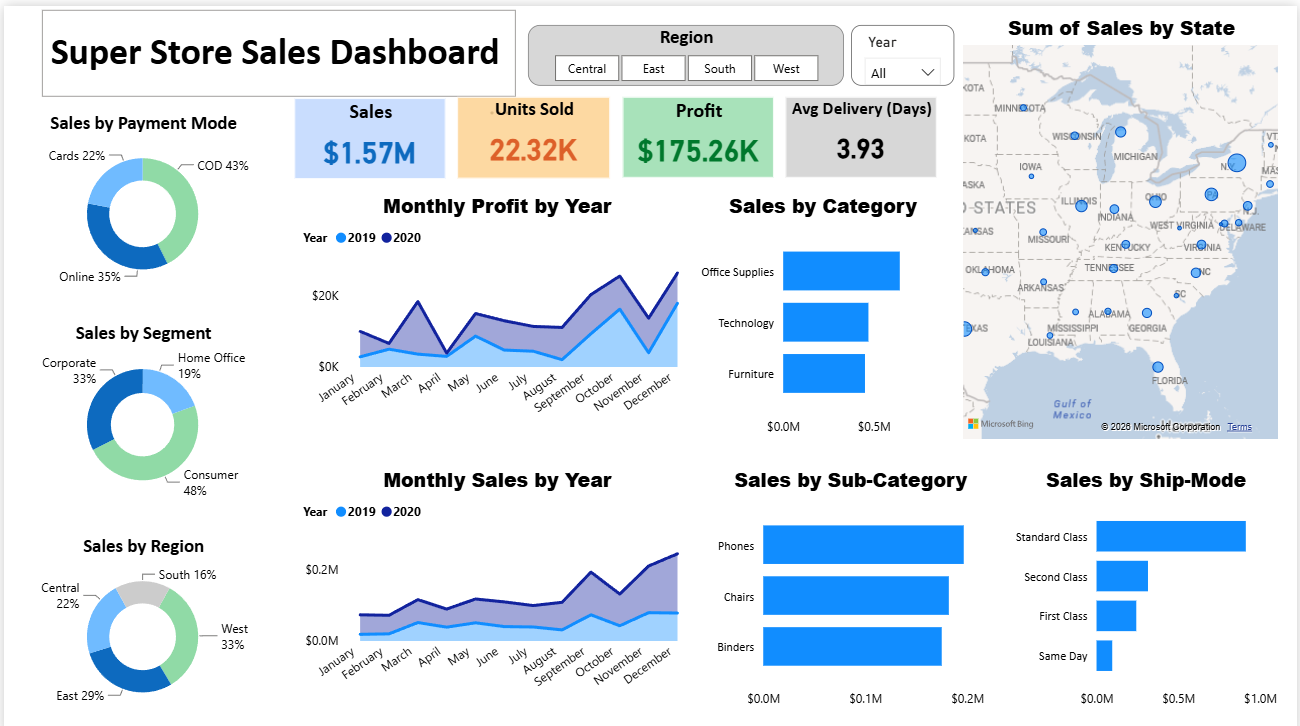

This screenshot's page, from the dashboard's own definition file:
{"tool":"powerbi","page":{"name":"Page 1","canvas":[1280,720],"ordinal":0},"visuals":[{"type":"clusteredBarChart","title":" Sales by Sub-Category","fields":{"Category":["SuperStore_Sales_Dataset.Sub-Category"],"Y":["Sum(SuperStore_Sales_Dataset.Sales)"]},"box":[695,451.2,285,257.5],"z":0},{"type":"clusteredBarChart","title":" Sales by Ship-Mode","fields":{"Category":["SuperStore_Sales_Dataset.Ship Mode"],"Y":["Sum(SuperStore_Sales_Dataset.Sales)"]},"box":[990,451.2,280,257.5],"z":1000},{"type":"stackedAreaChart","title":"Monthly Sales by Year","fields":{"Y":["Sum(SuperStore_Sales_Dataset.Sales)"],"Category":["SuperStore_Sales_Dataset.Order Date.Variation.Date Hierarchy.Month"],"Series":["SuperStore_Sales_Dataset.Order Date.Variation.Date Hierarchy.Year"]},"box":[287,451.8,400,250],"z":2000},{"type":"clusteredBarChart","title":" Sales by Category","fields":{"Category":["SuperStore_Sales_Dataset.Category"],"Y":["Sum(SuperStore_Sales_Dataset.Sales)"]},"box":[678.8,180,262.5,258.8],"z":3000},{"type":"stackedAreaChart","title":"Monthly Profit by Year","fields":{"Category":["SuperStore_Sales_Dataset.Order Date.Variation.Date Hierarchy.Month"],"Series":["SuperStore_Sales_Dataset.Order Date.Variation.Date Hierarchy.Year"],"Y":["Sum(SuperStore_Sales_Dataset.Profit)"]},"box":[287,179.5,400,250],"z":4000},{"type":"map","fields":{"Category":["SuperStore_Sales_Dataset.State"],"Size":["Sum(SuperStore_Sales_Dataset.Sales)"]},"box":[941.2,3.8,328.8,433.8],"z":5000},{"type":"donutChart","title":" Sales by Segment","fields":{"Category":["SuperStore_Sales_Dataset.Segment"],"Y":["Sum(SuperStore_Sales_Dataset.Sales)"]},"box":[20,309.4,235,190],"z":6000},{"type":"donutChart","title":" Sales by Payment Mode","fields":{"Y":["Sum(SuperStore_Sales_Dataset.Sales)"],"Category":["SuperStore_Sales_Dataset.Payment Mode"]},"box":[20,100,235,190],"z":7000},{"type":"slicer","title":"Region","fields":{"Values":["SuperStore_Sales_Dataset.Region"]},"box":[518.8,18.8,312.5,60],"z":8000},{"type":"textbox","box":[37.5,3.8,468.8,86.2],"z":9000},{"type":"card","title":"Sales","fields":{"Values":["Sum(SuperStore_Sales_Dataset.Sales)"]},"box":[287,90.9,150,80],"z":10000},{"type":"card","title":"Units Sold","fields":{"Values":["Sum(SuperStore_Sales_Dataset.Quantity)"]},"box":[449.1,90,151,80.7],"z":11000},{"type":"card","title":"Profit","fields":{"Values":["Sum(SuperStore_Sales_Dataset.Profit)"]},"box":[612.2,90,150,80],"z":12000},{"type":"card","title":"Avg Delivery (Days)","fields":{"Values":["Avg(SuperStore_Sales_Dataset.avgdelivery)"]},"box":[774.2,90,150,80],"z":13000},{"type":"donutChart","title":" Sales by Region","fields":{"Y":["Sum(SuperStore_Sales_Dataset.Sales)"],"Category":["SuperStore_Sales_Dataset.Region"]},"box":[20,518.8,235,190],"z":14000},{"type":"slicer","fields":{"Values":["SuperStore_Sales_Dataset.Order Date.Variation.Date Hierarchy.Year"]},"box":[838.8,18.8,102.5,60],"z":14001}]}

Visuals, with their boxes in screenshot pixels (x1, y1, x2, y2), scaled from the page's 1280x720 canvas onto the 1300x726 screenshot:
" Sales by Sub-Category" clusteredBarChart: crop(706, 455, 995, 715)
" Sales by Ship-Mode" clusteredBarChart: crop(1005, 455, 1290, 715)
"Monthly Sales by Year" stackedAreaChart: crop(291, 456, 698, 708)
" Sales by Category" clusteredBarChart: crop(689, 182, 956, 442)
"Monthly Profit by Year" stackedAreaChart: crop(291, 181, 698, 433)
map - SuperStore_Sales_Dataset.State x Sum(SuperStore_Sales_Dataset.Sales): crop(956, 4, 1290, 441)
" Sales by Segment" donutChart: crop(20, 312, 259, 504)
" Sales by Payment Mode" donutChart: crop(20, 101, 259, 292)
"Region" slicer: crop(527, 19, 844, 79)
textbox: crop(38, 4, 514, 91)
"Sales" card: crop(291, 92, 444, 172)
"Units Sold" card: crop(456, 91, 609, 172)
"Profit" card: crop(622, 91, 774, 171)
"Avg Delivery (Days)" card: crop(786, 91, 939, 171)
" Sales by Region" donutChart: crop(20, 523, 259, 715)
slicer - SuperStore_Sales_Dataset.Order Date.Variation.Date Hierarchy.Year: crop(852, 19, 956, 79)
